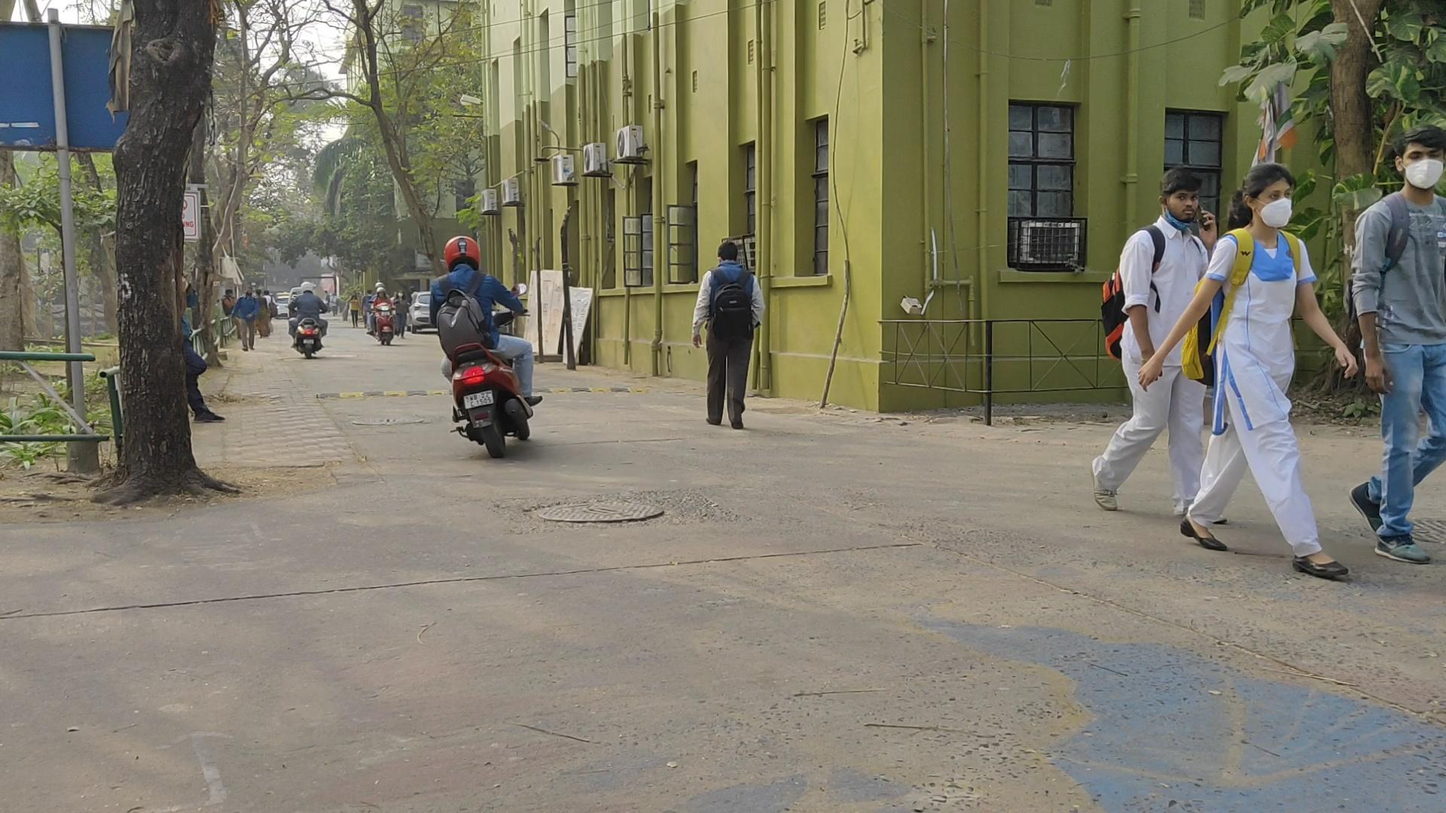bike: (428, 235, 542, 455), (289, 281, 331, 360), (371, 288, 401, 348)
